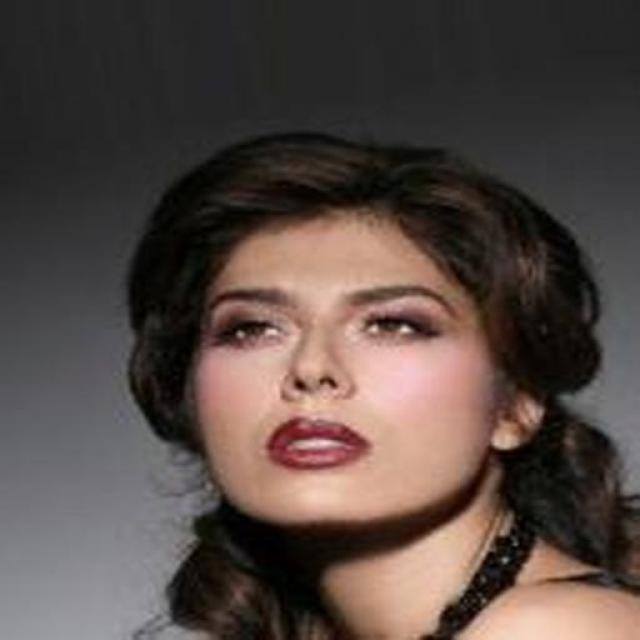bareface: (134, 130, 599, 542)
